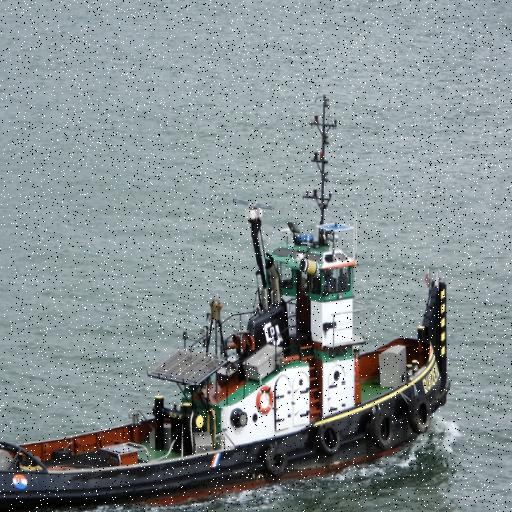tugboat: (1, 93, 455, 512)
